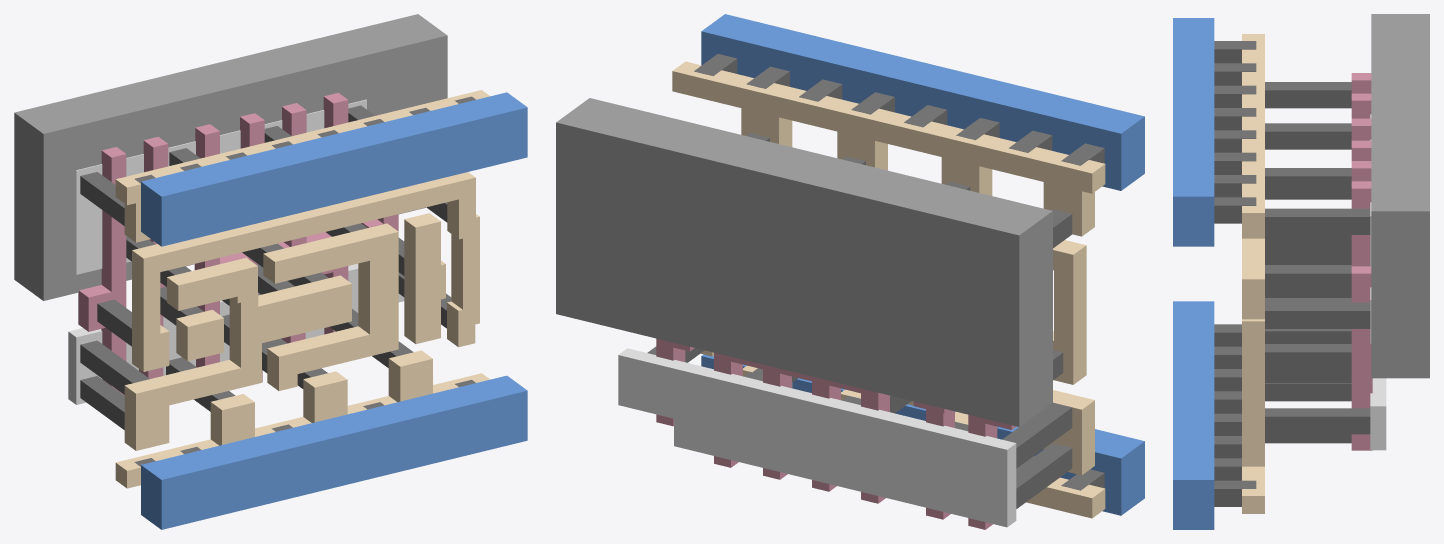
File: sky130_fd_sc_hd__and2b_4.gds.gltf
The picture shows the model from 3 angles, left to right: view 1: azimuth 30°, elevation 25°; view 2: azimuth 150°, elevation 25°; view 3: azimuth 270°, elevation 25°; orthographic projection. The views are drawn at different scales.
Parts seen in each view (by area): view 1: sky130_fd_sc_hd__and2b_4_li1, sky130_fd_sc_hd__and2b_4_met1, sky130_fd_sc_hd__and2b_4_nwell, sky130_fd_sc_hd__and2b_4_licon, sky130_fd_sc_hd__and2b_4_poly, sky130_fd_sc_hd__and2b_4_diff, sky130_fd_sc_hd__and2b_4_mcon; view 2: sky130_fd_sc_hd__and2b_4_nwell, sky130_fd_sc_hd__and2b_4_diff, sky130_fd_sc_hd__and2b_4_li1, sky130_fd_sc_hd__and2b_4_met1, sky130_fd_sc_hd__and2b_4_licon, sky130_fd_sc_hd__and2b_4_mcon, sky130_fd_sc_hd__and2b_4_poly; view 3: sky130_fd_sc_hd__and2b_4_licon, sky130_fd_sc_hd__and2b_4_nwell, sky130_fd_sc_hd__and2b_4_met1, sky130_fd_sc_hd__and2b_4_mcon, sky130_fd_sc_hd__and2b_4_li1, sky130_fd_sc_hd__and2b_4_poly, sky130_fd_sc_hd__and2b_4_diff.
Part boxes in pixels (box(x1,y1,x2,y2)): sky130_fd_sc_hd__and2b_4_li1: box(115, 90, 489, 488); sky130_fd_sc_hd__and2b_4_met1: box(141, 92, 527, 529); sky130_fd_sc_hd__and2b_4_nwell: box(14, 14, 447, 300); sky130_fd_sc_hd__and2b_4_licon: box(80, 105, 451, 429); sky130_fd_sc_hd__and2b_4_poly: box(78, 93, 398, 395); sky130_fd_sc_hd__and2b_4_diff: box(68, 99, 404, 404); sky130_fd_sc_hd__and2b_4_mcon: box(134, 96, 475, 466); sky130_fd_sc_hd__and2b_4_nwell: box(556, 98, 1052, 426); sky130_fd_sc_hd__and2b_4_diff: box(618, 348, 1016, 527); sky130_fd_sc_hd__and2b_4_li1: box(672, 61, 1105, 518); sky130_fd_sc_hd__and2b_4_met1: box(701, 14, 1144, 515); sky130_fd_sc_hd__and2b_4_licon: box(647, 133, 1072, 508); sky130_fd_sc_hd__and2b_4_mcon: box(694, 54, 1104, 490); sky130_fd_sc_hd__and2b_4_poly: box(656, 338, 1016, 529); sky130_fd_sc_hd__and2b_4_licon: box(1265, 82, 1370, 443); sky130_fd_sc_hd__and2b_4_nwell: box(1371, 14, 1429, 378); sky130_fd_sc_hd__and2b_4_met1: box(1173, 18, 1214, 529); sky130_fd_sc_hd__and2b_4_mcon: box(1214, 41, 1256, 506); sky130_fd_sc_hd__and2b_4_li1: box(1242, 34, 1264, 513); sky130_fd_sc_hd__and2b_4_poly: box(1351, 73, 1372, 450); sky130_fd_sc_hd__and2b_4_diff: box(1370, 114, 1386, 450).
Bounding box in the file's own units: 4.06 × 3.2 × 2.24.
